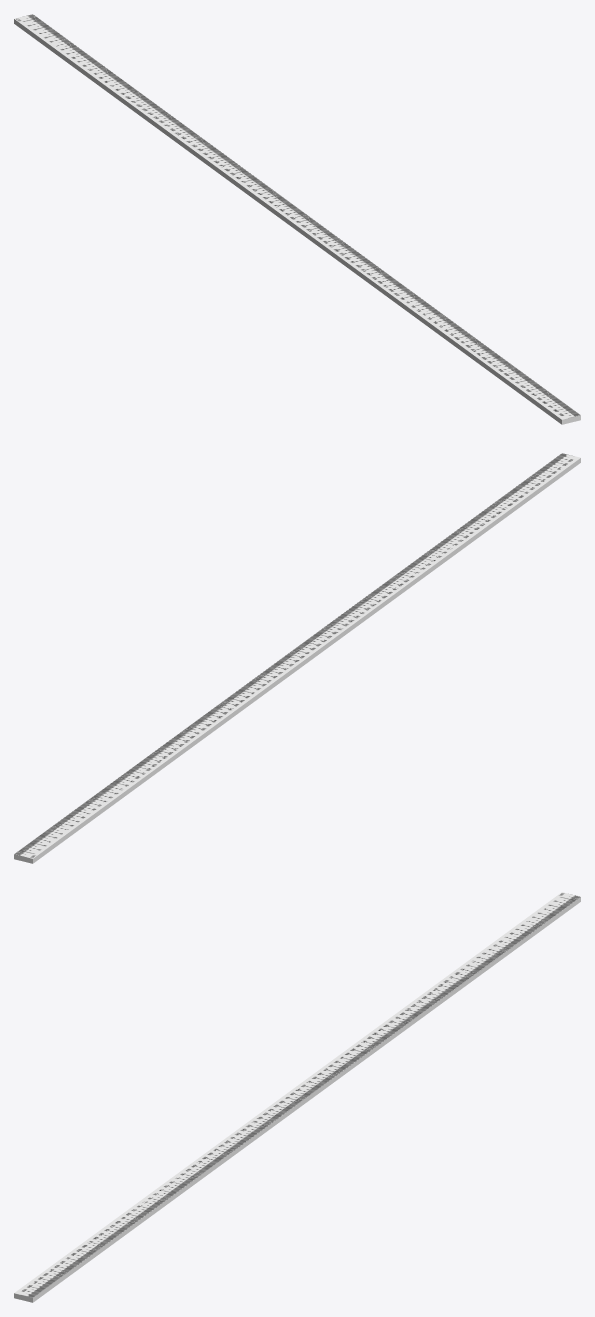
Rendered from metric-scales.fbx.
3 views of the same model, one above another, from view 1: azimuth 30°, elevation 25°; view 2: azimuth 150°, elevation 25°; view 3: azimuth 330°, elevation 25° (orthographic).
Parts seen in each view (by area): view 1: Meter Scale (Low-Poly)_Meter Scale_0; view 2: Meter Scale (Low-Poly)_Meter Scale_0; view 3: Meter Scale (Low-Poly)_Meter Scale_0.
Part boxes in pixels (x1=…): Meter Scale (Low-Poly)_Meter Scale_0: x1=14, y1=14, x2=580, y2=424; Meter Scale (Low-Poly)_Meter Scale_0: x1=14, y1=453, x2=580, y2=863; Meter Scale (Low-Poly)_Meter Scale_0: x1=14, y1=892, x2=580, y2=1302.
Bounding box in the file's own units: 2 × 0.5 × 100.
1 material, 1 textured.
